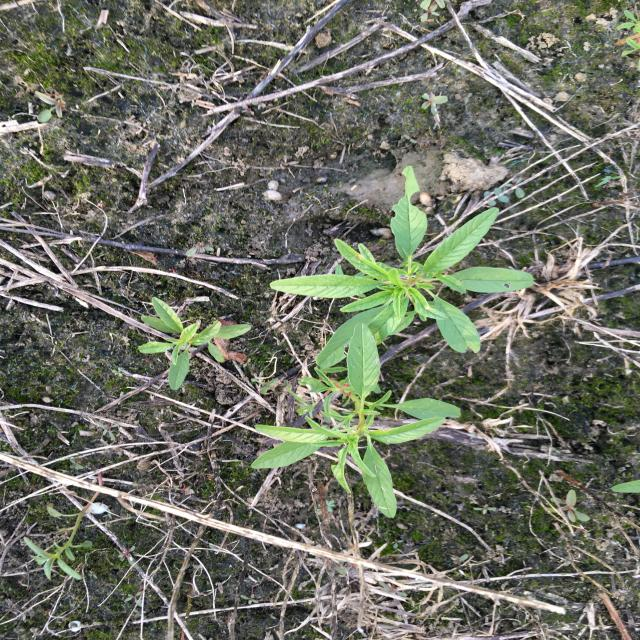Waterhemp: (268, 164, 537, 371), (249, 321, 463, 520), (136, 295, 254, 392), (17, 476, 117, 584)
